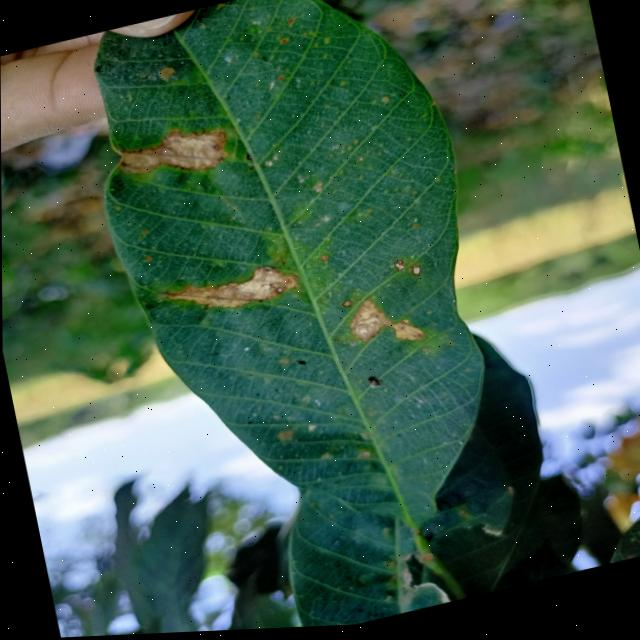Colletotrichum: (393, 263, 405, 277), (410, 269, 422, 282), (342, 303, 351, 311), (276, 290, 283, 295), (334, 340, 339, 345), (249, 168, 254, 173)
Leaf-Blight: (113, 121, 232, 192), (168, 262, 300, 324), (345, 293, 426, 360)
